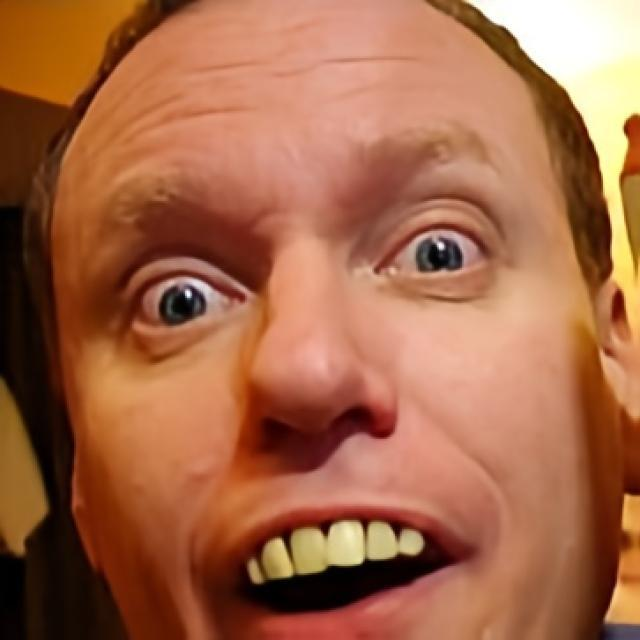fear: (47, 0, 598, 640)
